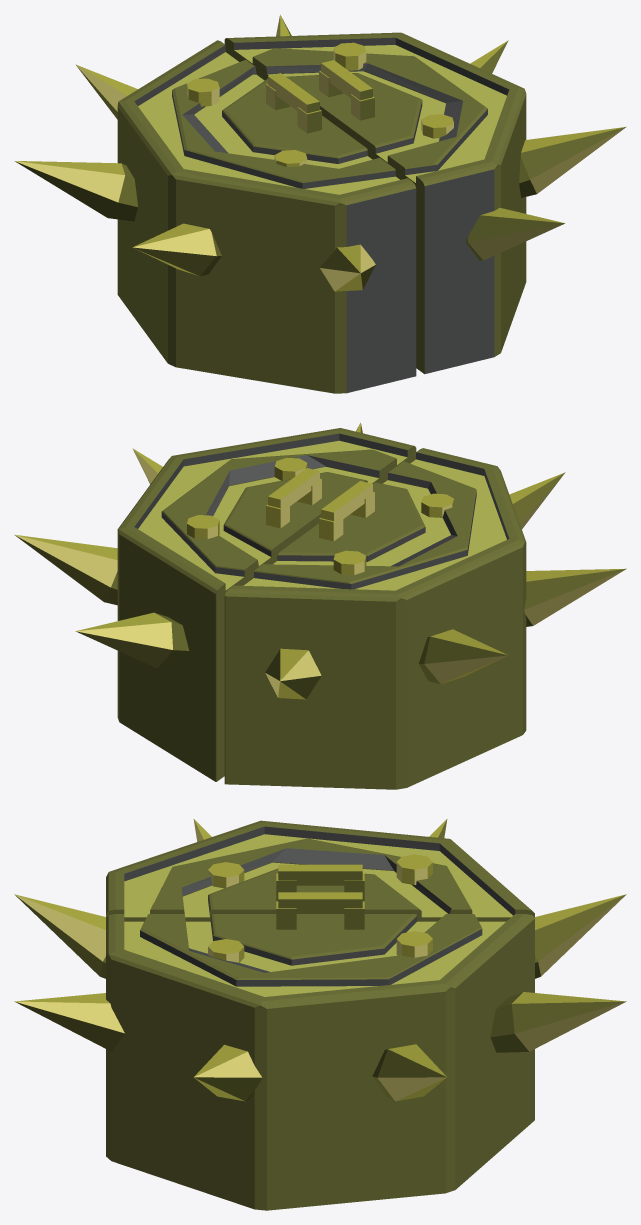
The model's file is gold_spike_door.fbx.
3 renders of one model, top to bottom at view 1: azimuth 30°, elevation 25°; view 2: azimuth 150°, elevation 25°; view 3: azimuth 270°, elevation 25°, orthographic. The views are drawn at different scales.
Visible parts, largest first — view 1: gold_spike_door_panel_left, gold_spike_door_panel_right; view 2: gold_spike_door_panel_left, gold_spike_door_panel_right; view 3: gold_spike_door_panel_right, gold_spike_door_panel_left.
Boxes of the visible parts, x1,y1,x2,y2 form: gold_spike_door_panel_left: [14, 40, 416, 393]; gold_spike_door_panel_right: [224, 14, 626, 374]; gold_spike_door_panel_left: [224, 448, 626, 789]; gold_spike_door_panel_right: [14, 422, 416, 781]; gold_spike_door_panel_right: [14, 892, 626, 1210]; gold_spike_door_panel_left: [14, 819, 626, 978].
Size of the model in its own units: 5.4 by 2.29 by 5.4.
1 material, 1 textured.
